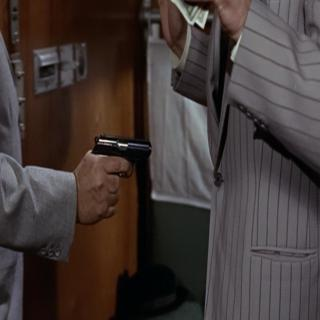gun: (87, 130, 156, 226)
